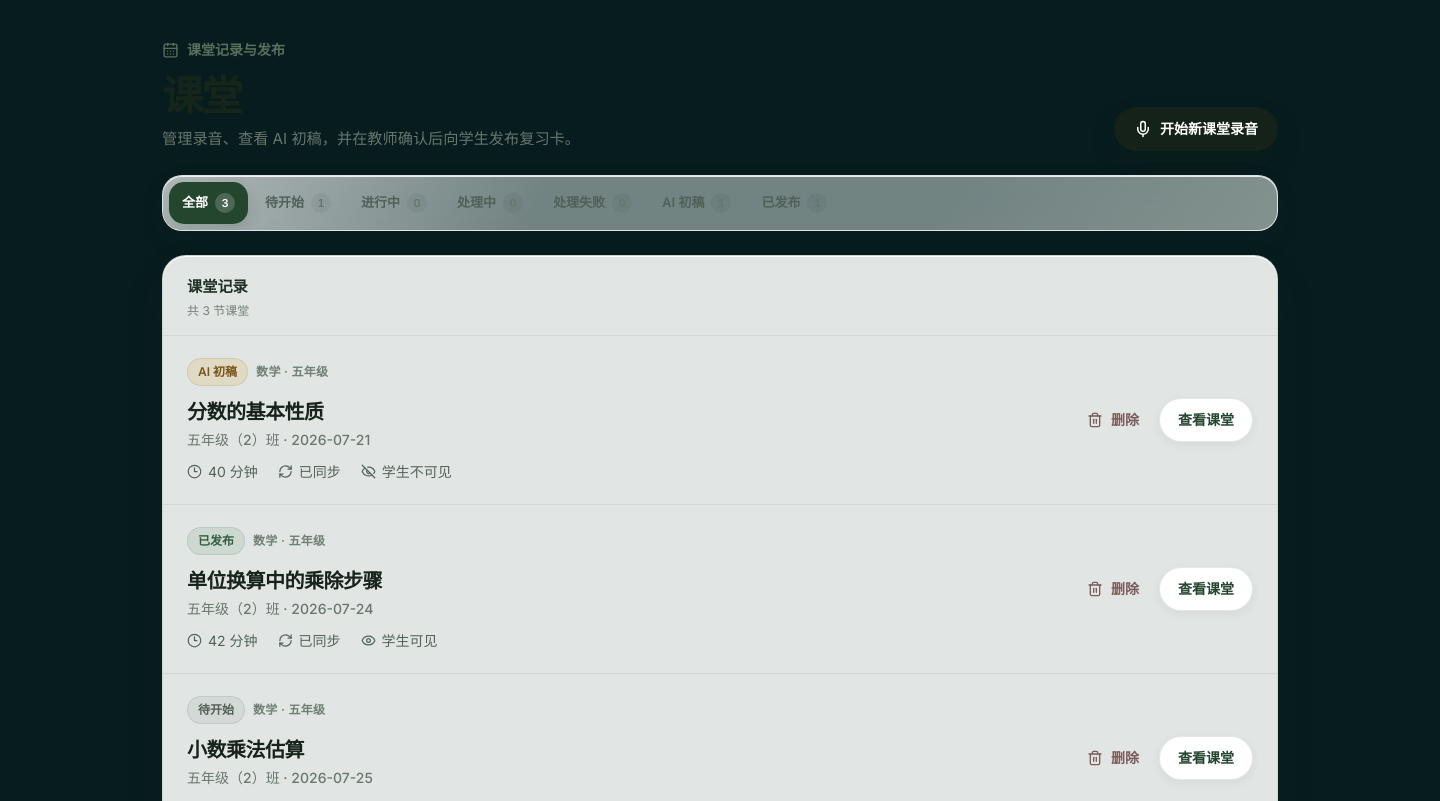
it: ClassroomPage › warns when deleting a published classroom
The width and height of the screenshot is (1440, 801).
Click the button with aria-label "删除单位换算中的乘除步骤".
click(1113, 589)  # box [1075, 567, 1151, 611]
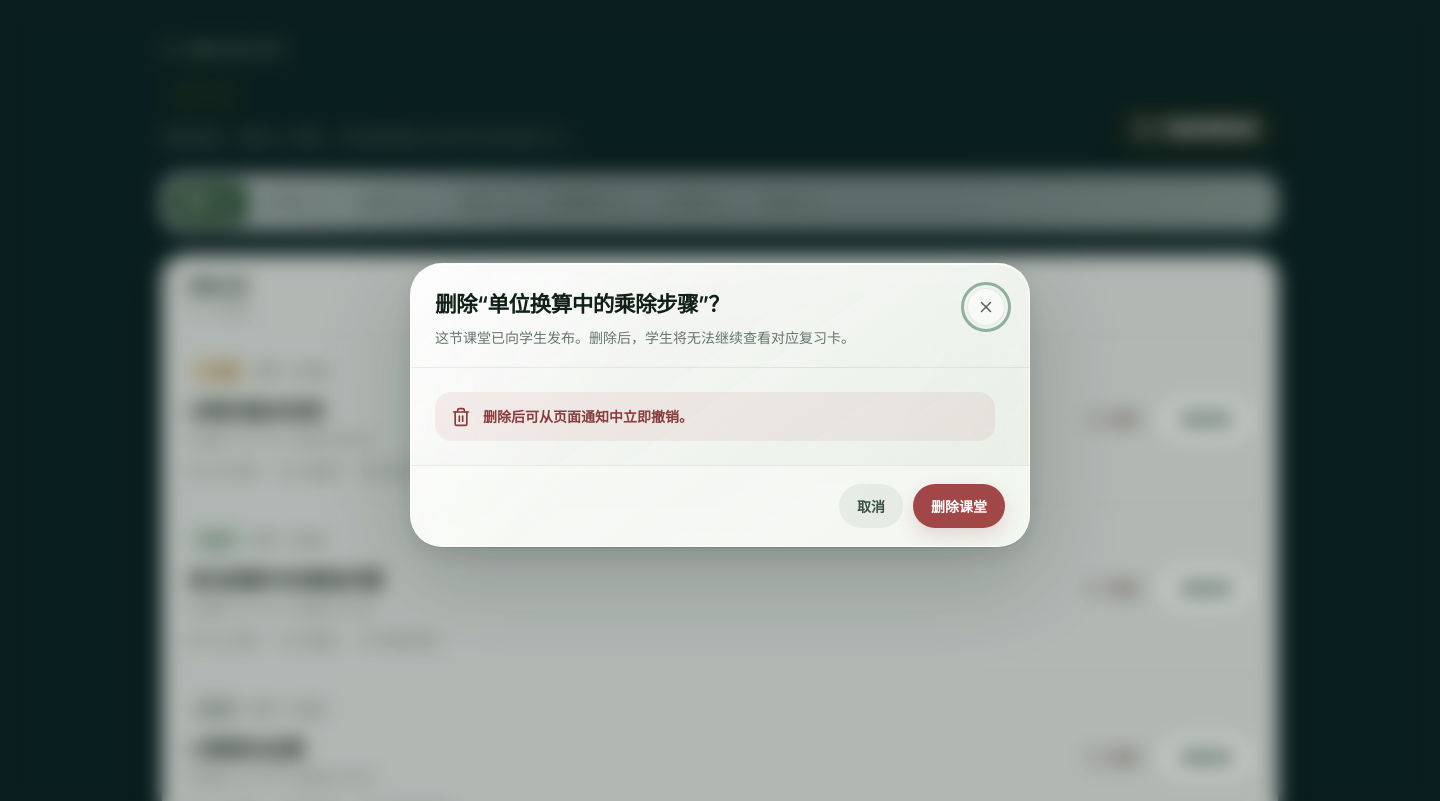
Check: the text "这节课堂已向学生发布。删除后，学生将无法继续查看对应复习卡。" is shown, box [435, 327, 855, 349]
